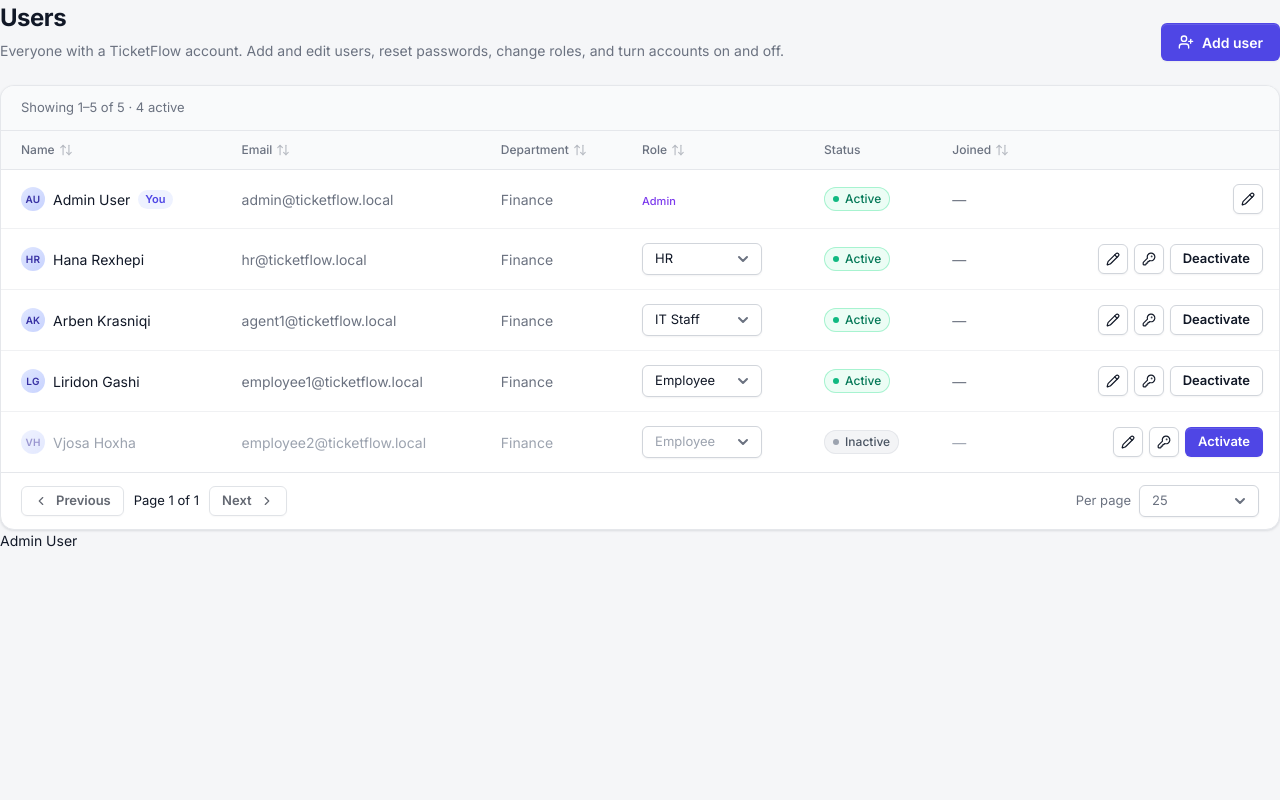
Test: Edit user form › sends only the fields that changed and updates the row without a reload
Expected: the table is shown, top-left (1, 131), bottom-right (1279, 472)
Click the button named "Edit Arben Krasniqi" at (1113, 320), box top-left (1098, 305), bottom-right (1128, 335)
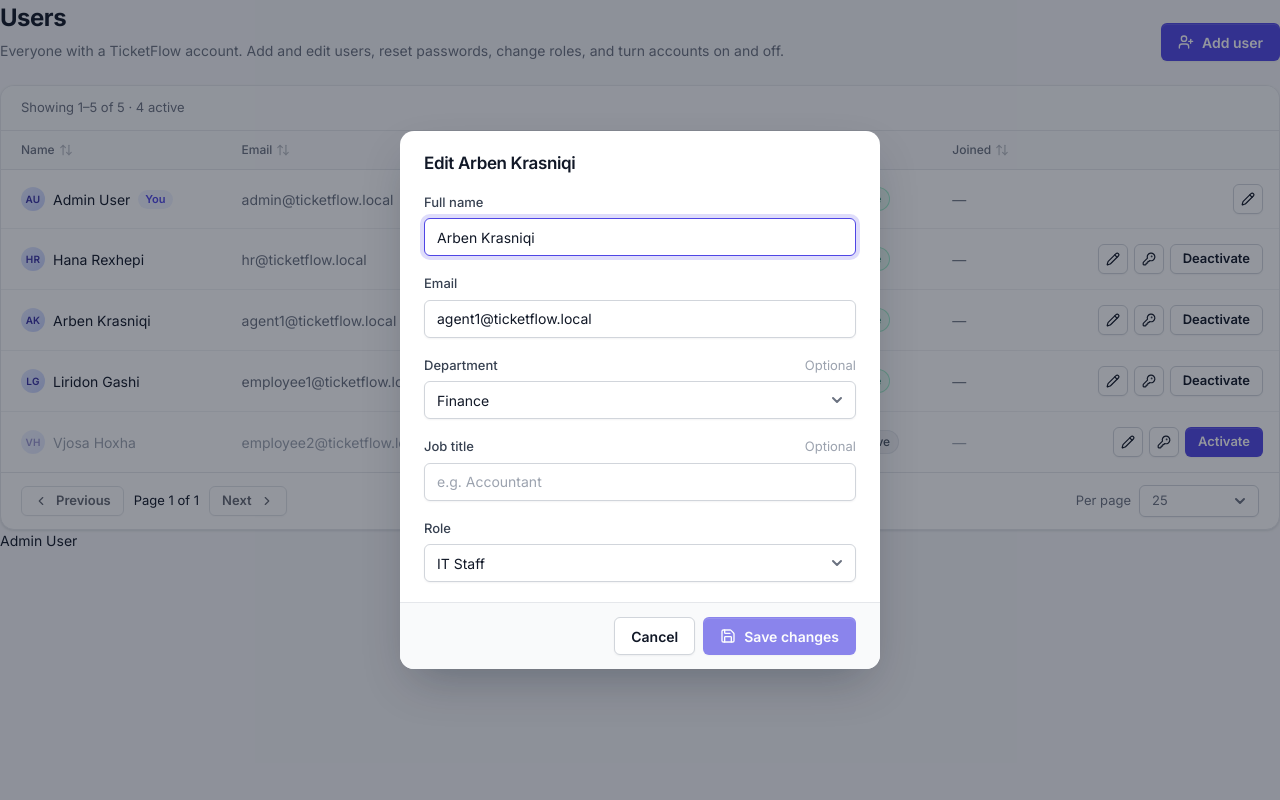
Select "IT" in the dropdown labelled "Department Optional" at (640, 400), box top-left (424, 381), bottom-right (856, 419)
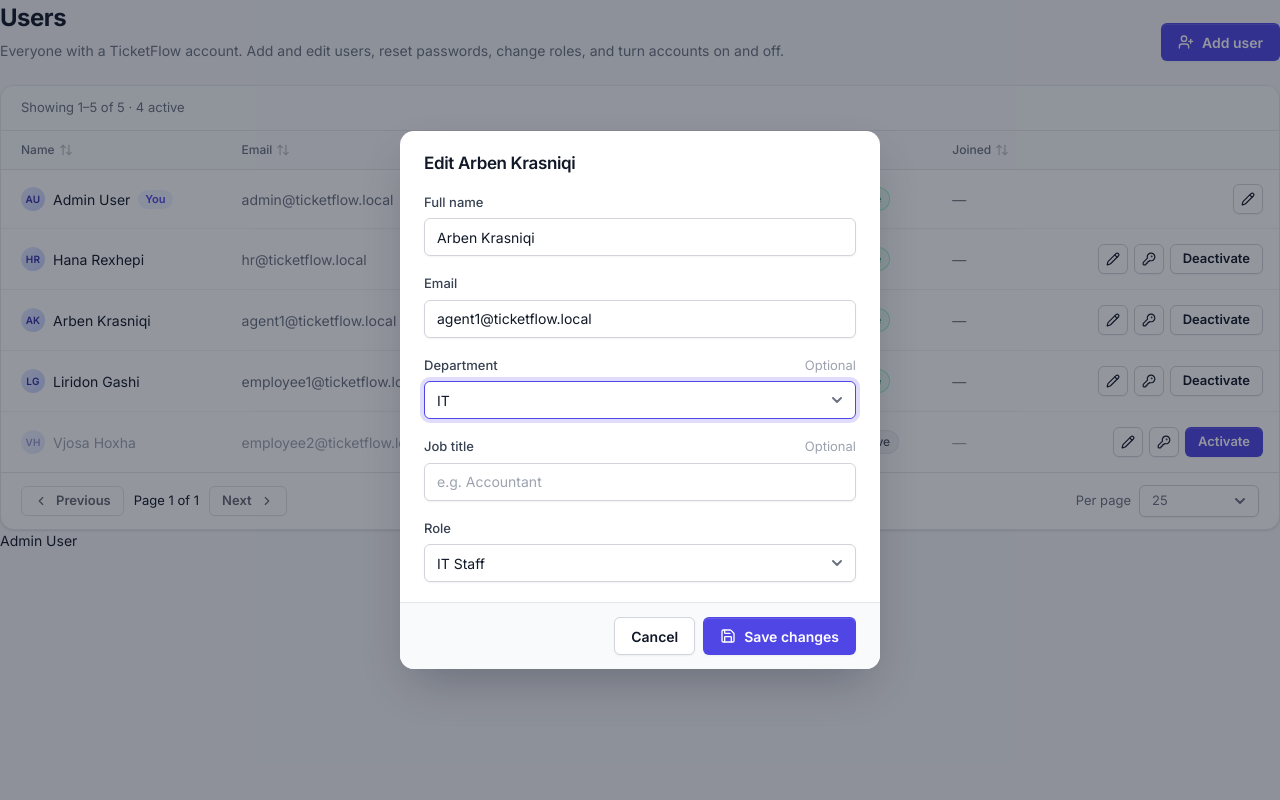
Select "HR" in the dropdown labelled "Role" at (640, 563), box top-left (424, 544), bottom-right (856, 582)
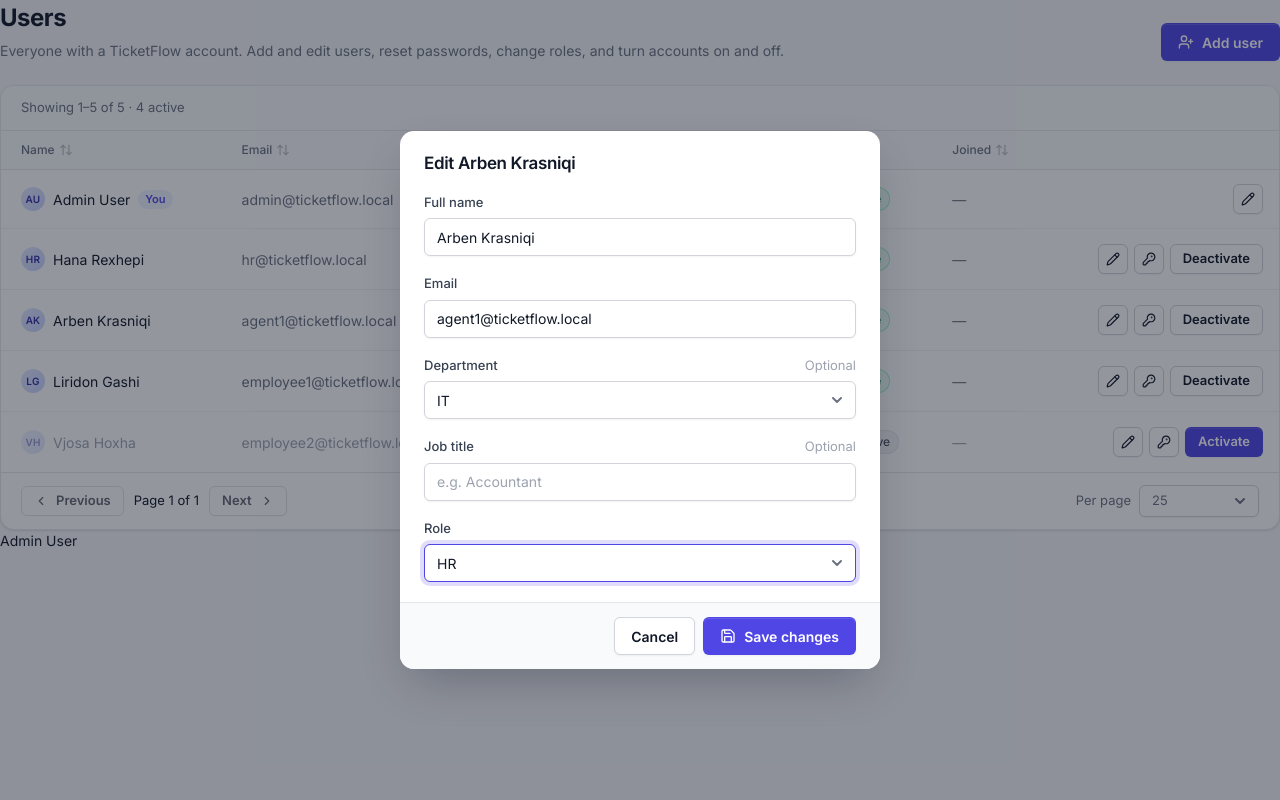
Click the button "Save changes" at (780, 636), box top-left (703, 617), bottom-right (856, 655)
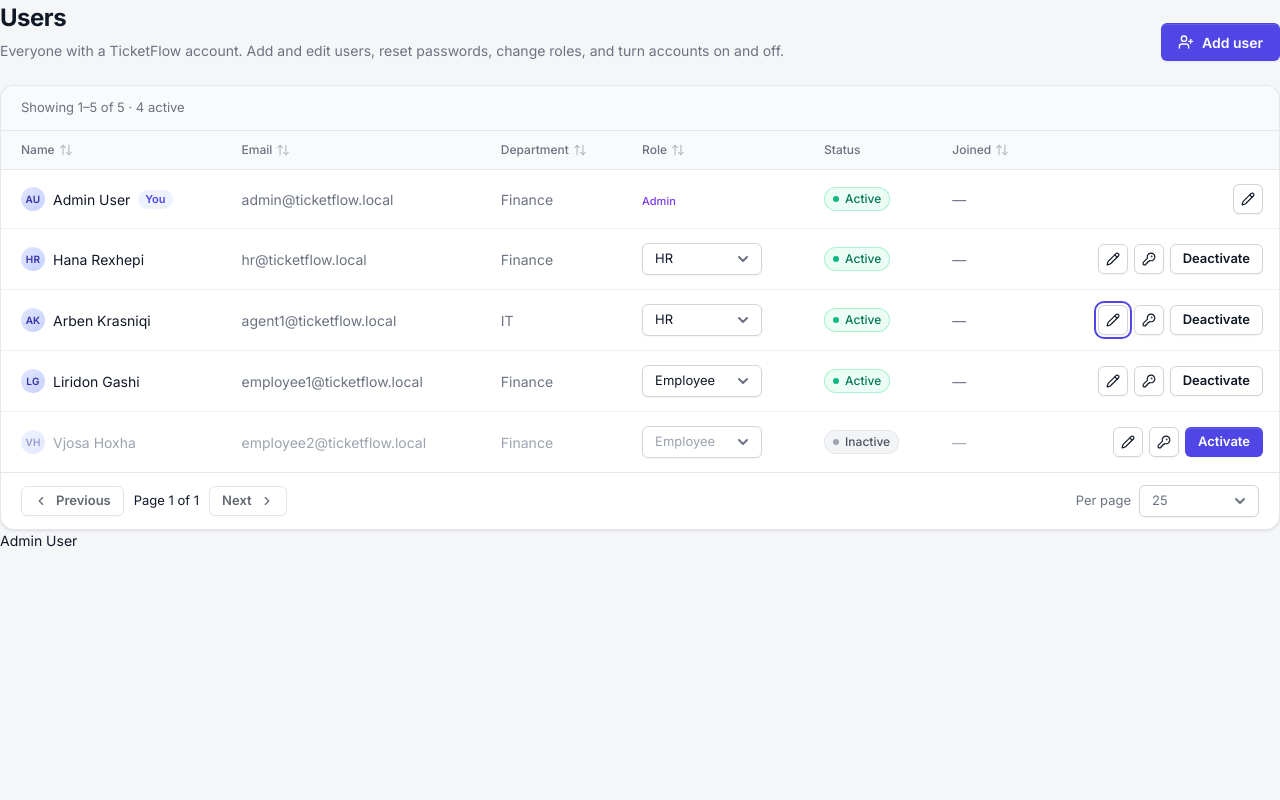
Result: the dialog is gone
Result: the text "IT" is shown at top-left (485, 290), bottom-right (626, 350)
Result: the dropdown named "Role for Arben Krasniqi" shows "HR" at top-left (642, 304), bottom-right (762, 336)
